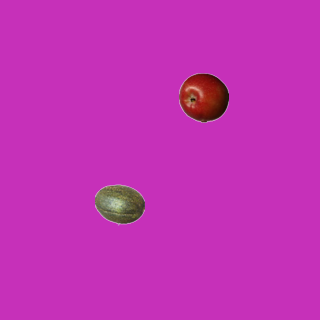Apple Braeburn: (178, 72, 228, 122)
Melon Piel de Sapo: (94, 179, 144, 229)
